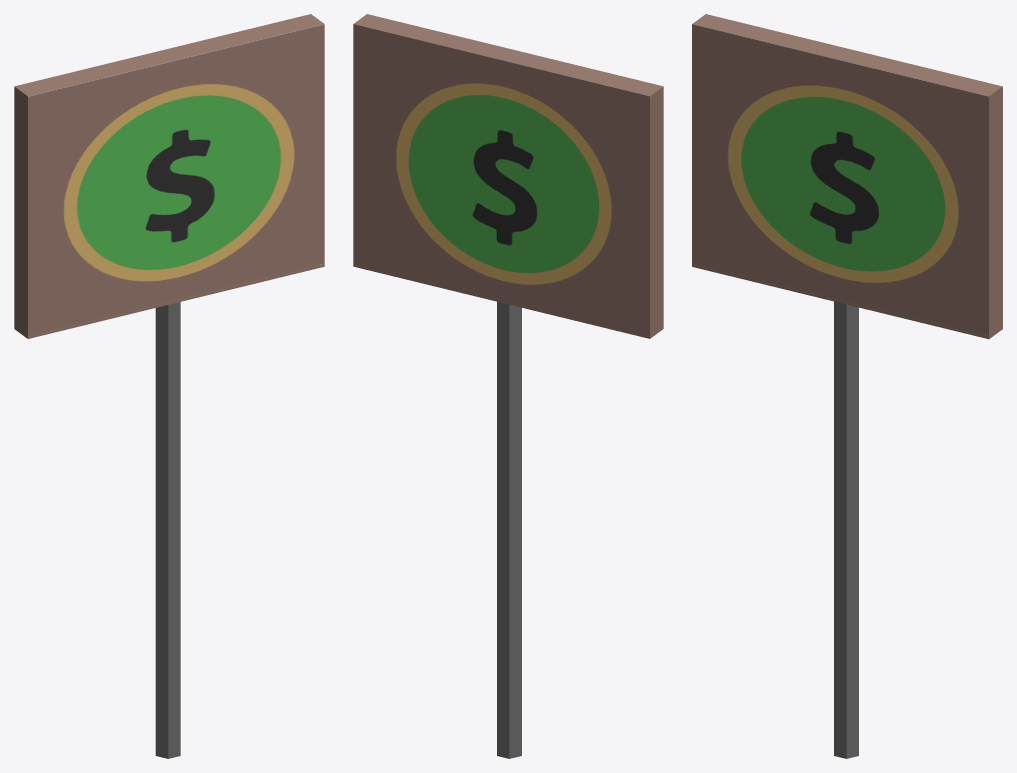
The model's file is cartel_05.fbx.
3 views of the same model, side by side, from view 1: azimuth 30°, elevation 25°; view 2: azimuth 150°, elevation 25°; view 3: azimuth 330°, elevation 25° (orthographic).
Visible parts, largest first — view 1: Cartel PRECIO BARATO; view 2: Cartel PRECIO BARATO; view 3: Cartel PRECIO BARATO.
Part boxes in pixels (x1,y1,x2,y2): Cartel PRECIO BARATO: (14,14,324,758); Cartel PRECIO BARATO: (353,14,663,758); Cartel PRECIO BARATO: (692,14,1002,758).
Bounding box in the file's own units: 60.87 × 137 × 4.89.
Materials: 3 (1 with a texture image).
